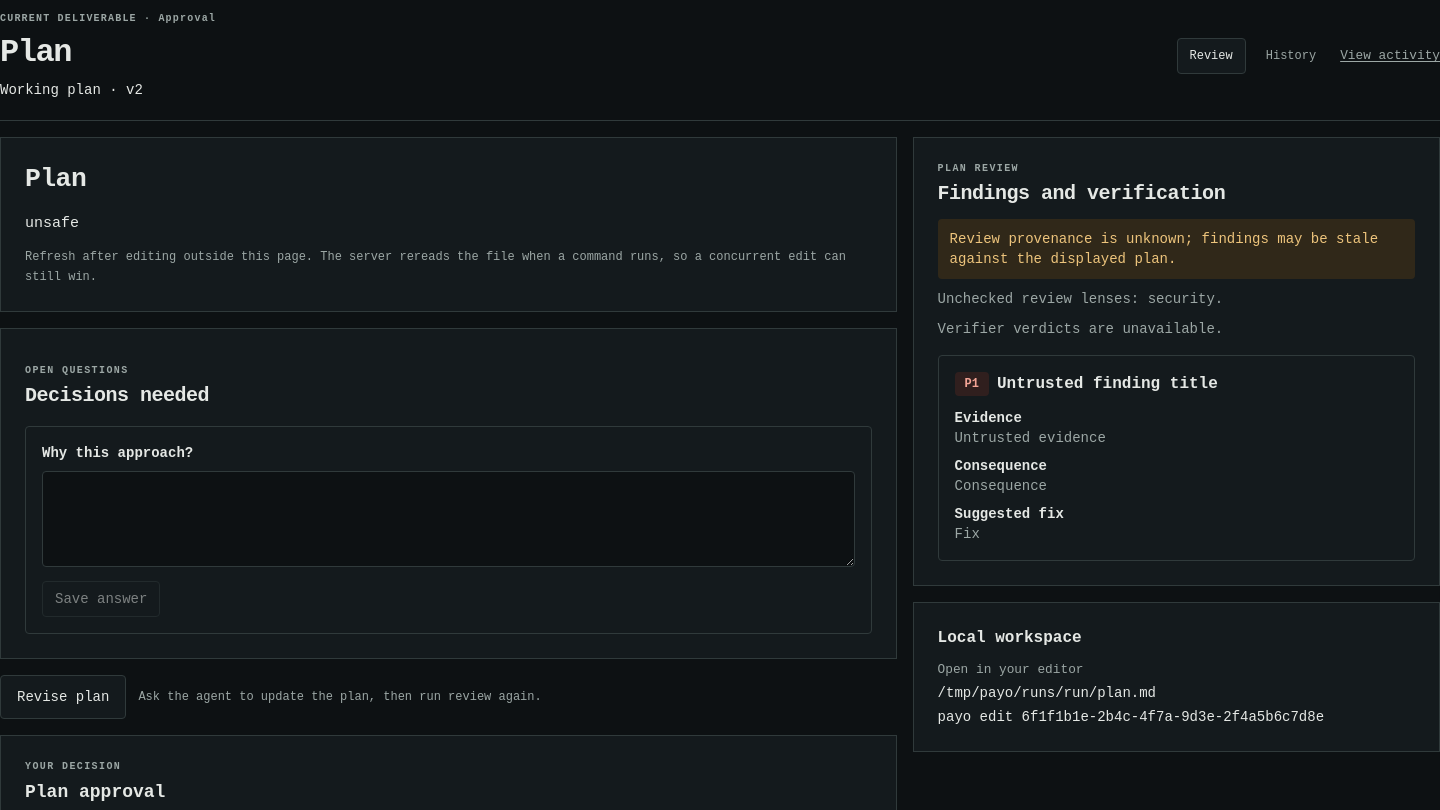
Scenario: submits a revision prompt with freshly fetched concurrency values
Later steps or results of the test are not shown.
Click the button "Revise plan".
click(63, 697)  # box [0,675,126,719]
(page scrolled)
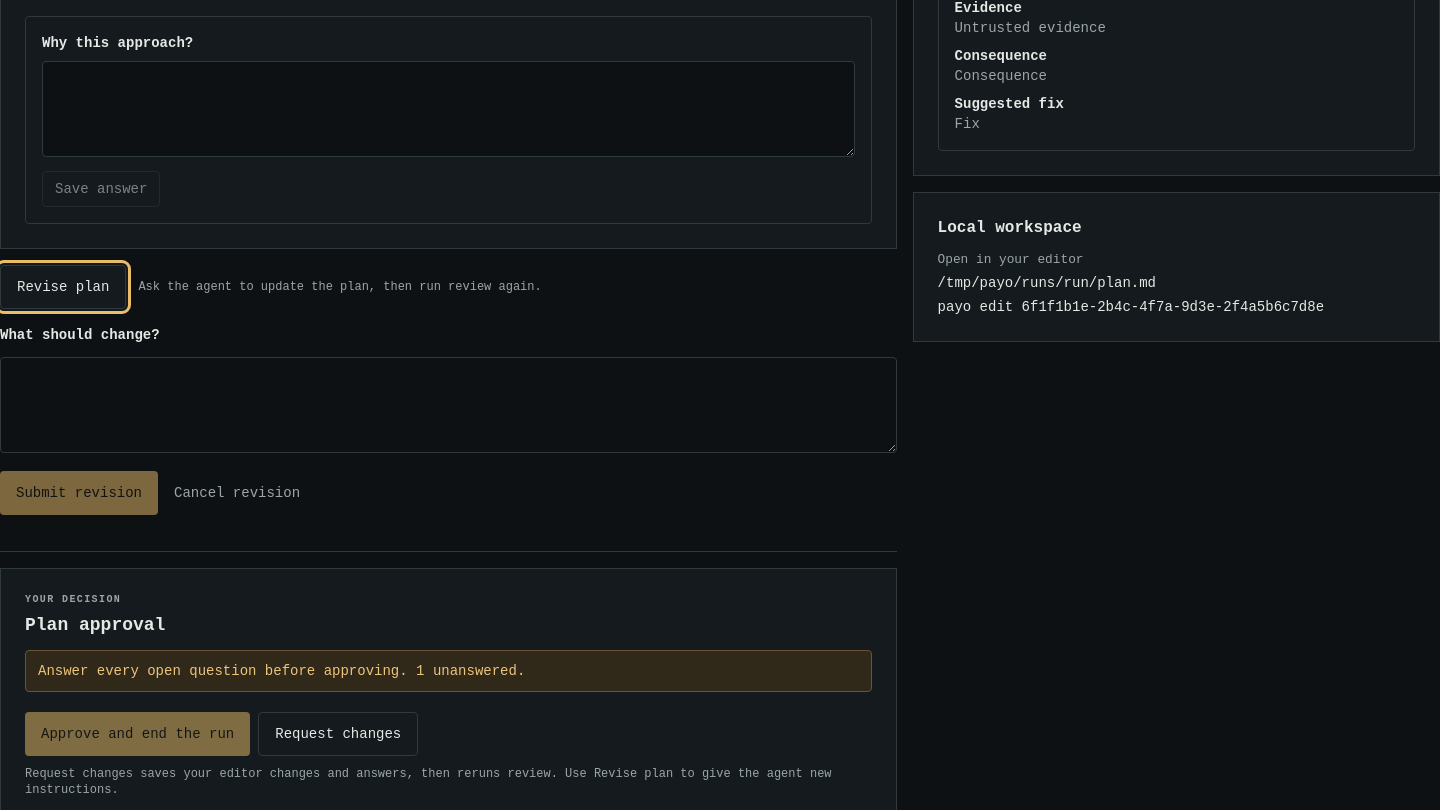
Now the button "Submit revision" is disabled, box [0,471,158,515]
